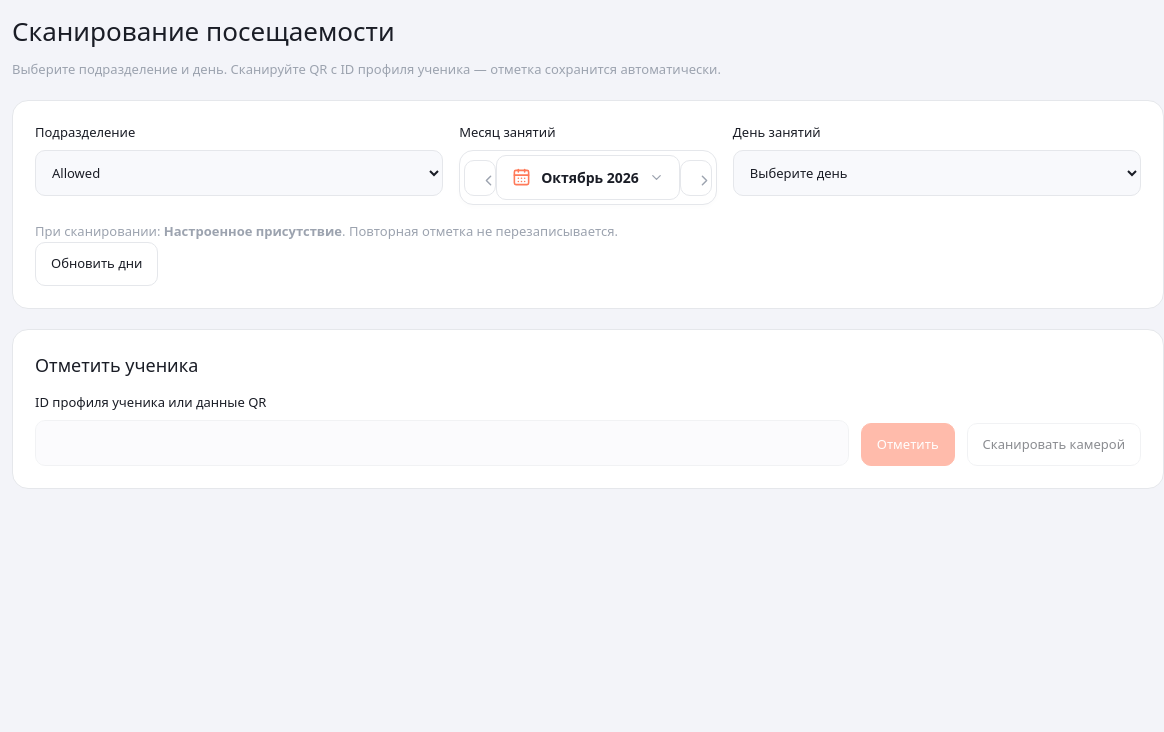
Scenario: does not retry a rejected scan automatically
Select "2026-10-19 · Занятие" in the dropdown named "День сканирования" at x=937, y=173, box [733,150,1141,196]
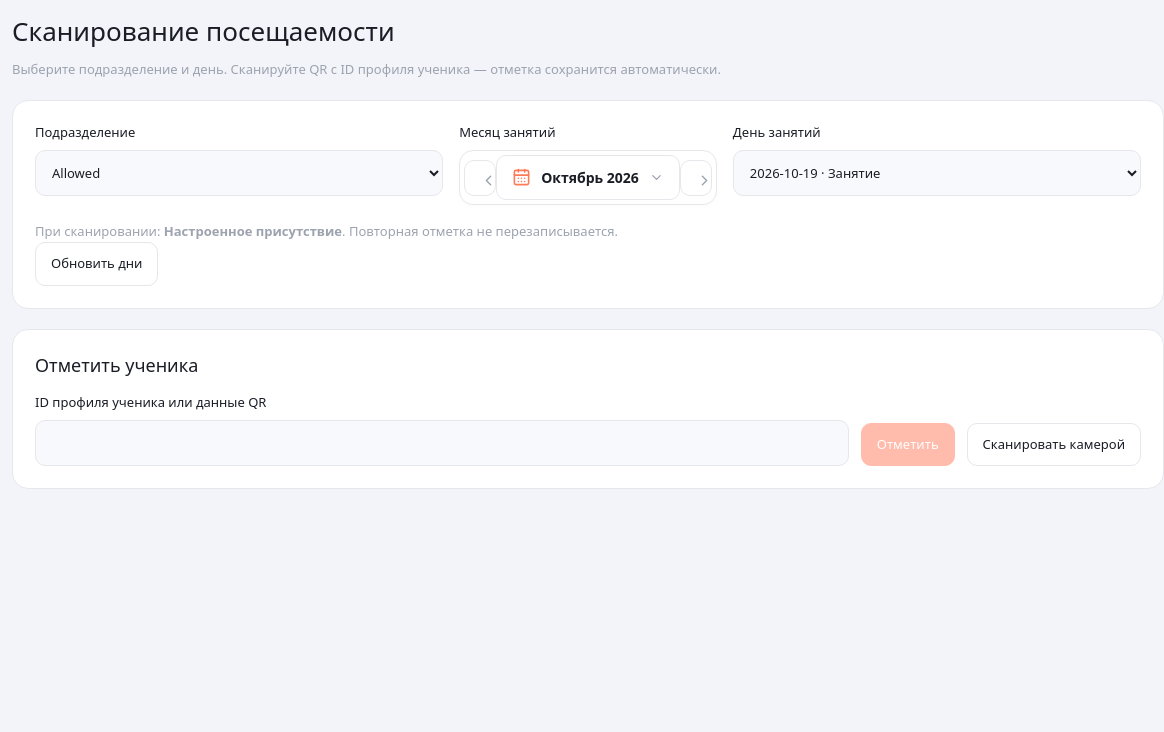
Type "700" into the field labelled "ID профиля ученика".
click(442, 443); type("700")  # box [35,420,849,466]
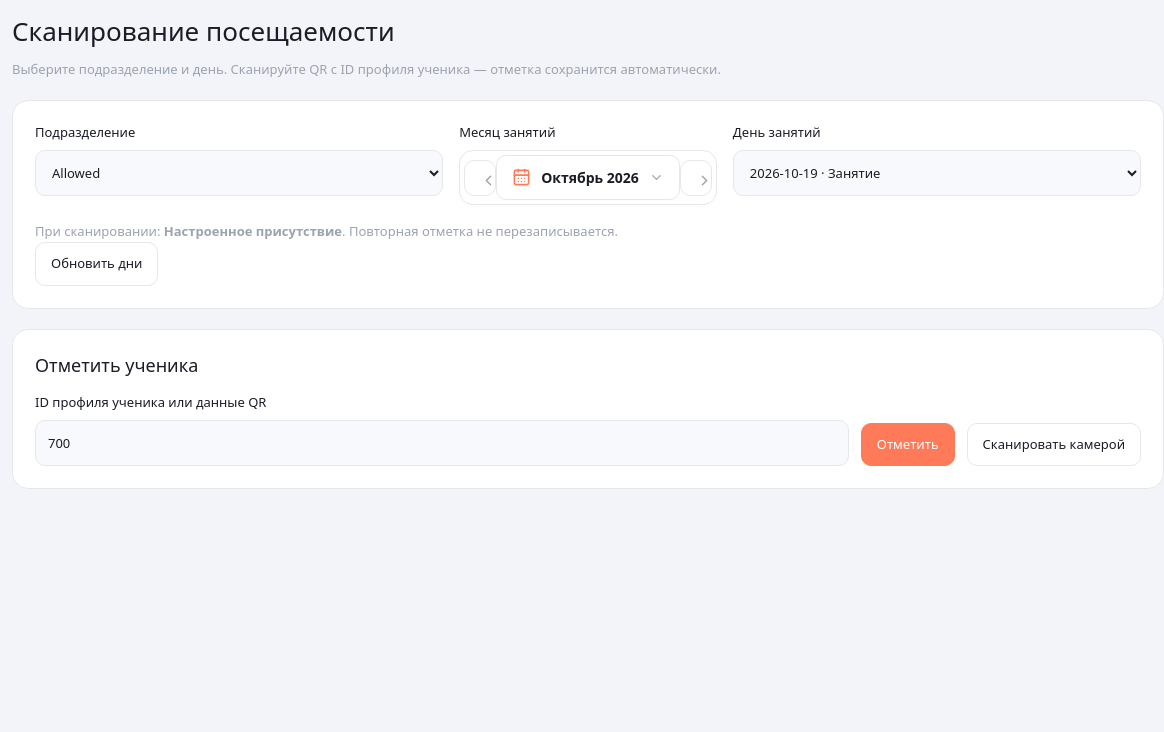
Click the button "Отметить".
click(908, 444)  # box [861,423,955,466]
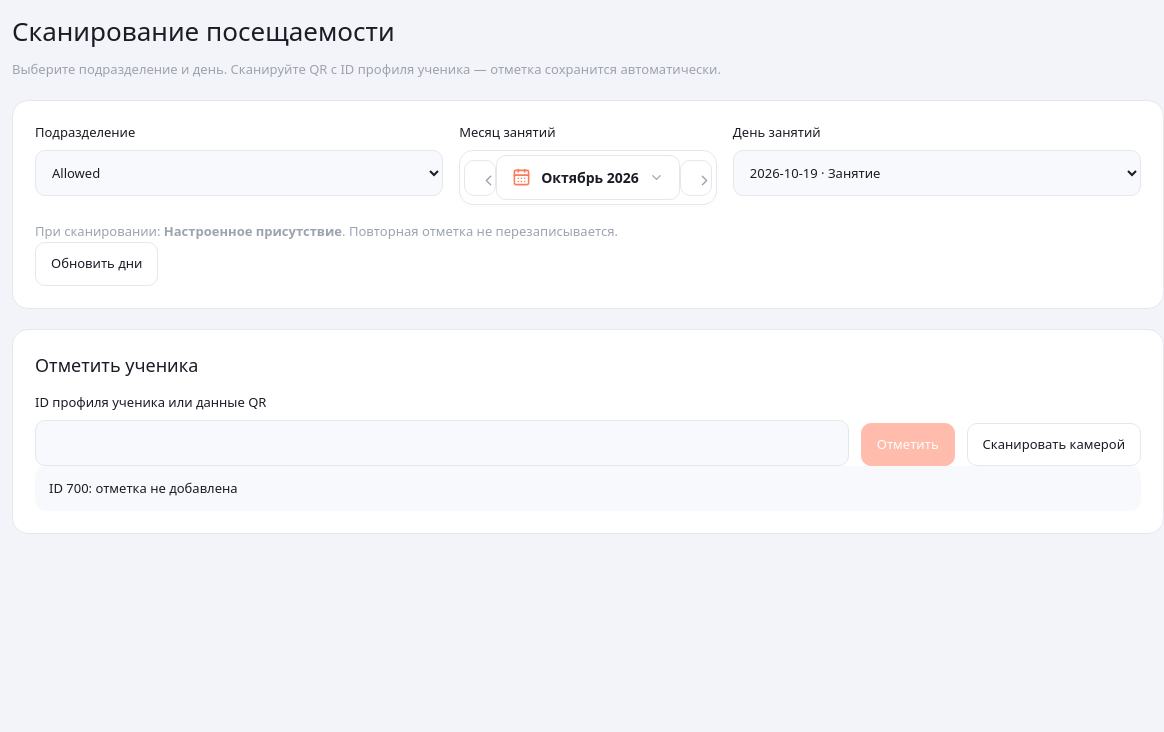
Check: the text "ID 700: отметка не добавлена" is shown, box [35,466,1141,511]
